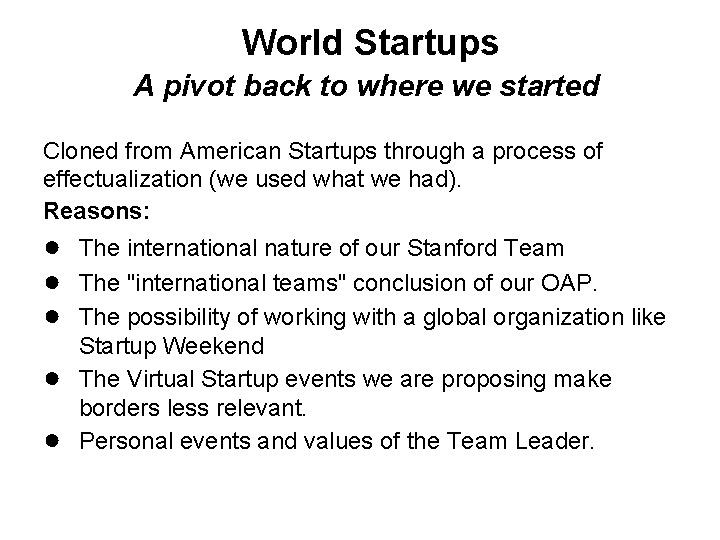paragraph: (30, 130, 703, 476)
title: (105, 10, 618, 109)
